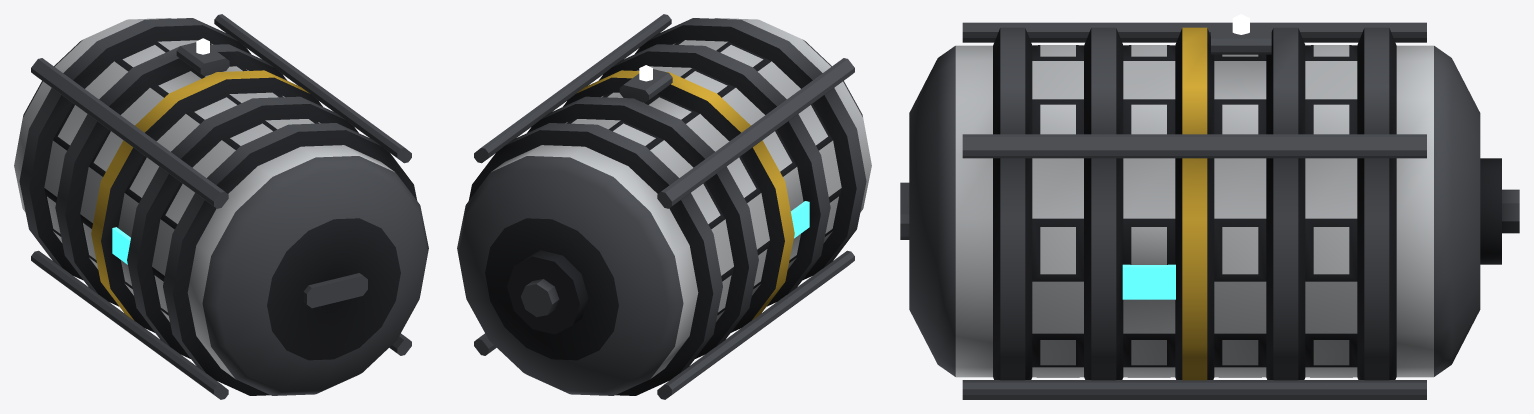
The model's file is cargo_pod.glb.
3 views of the same model, side by side, from view 1: azimuth 30°, elevation 25°; view 2: azimuth 150°, elevation 25°; view 3: azimuth 270°, elevation 25° (orthographic). The views are drawn at different scales.
Visible parts, largest first — view 1: cargo_pod_mesh; view 2: cargo_pod_mesh; view 3: cargo_pod_mesh.
Part boxes in pixels (left/top/right/bottom): cargo_pod_mesh: left=14, top=14, right=428, bottom=399; cargo_pod_mesh: left=457, top=14, right=871, bottom=399; cargo_pod_mesh: left=900, top=14, right=1519, bottom=399.
Size of the model in its own units: 2.06 by 2.25 by 3.47.
